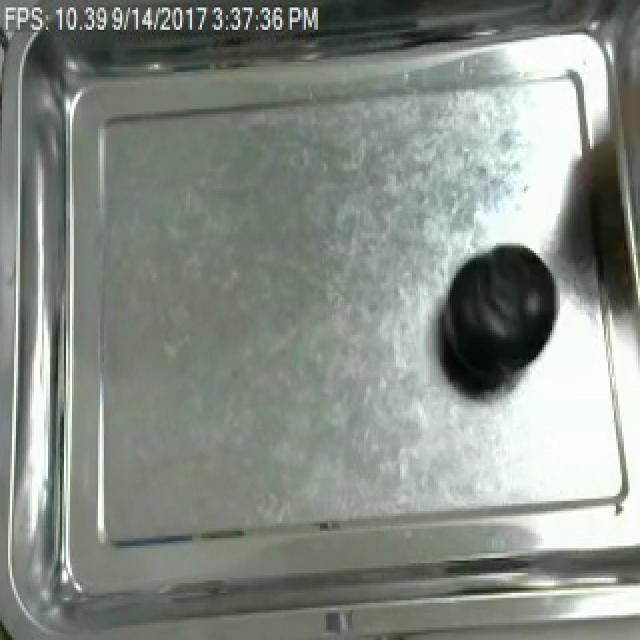Fruit: (432, 236, 564, 402)
